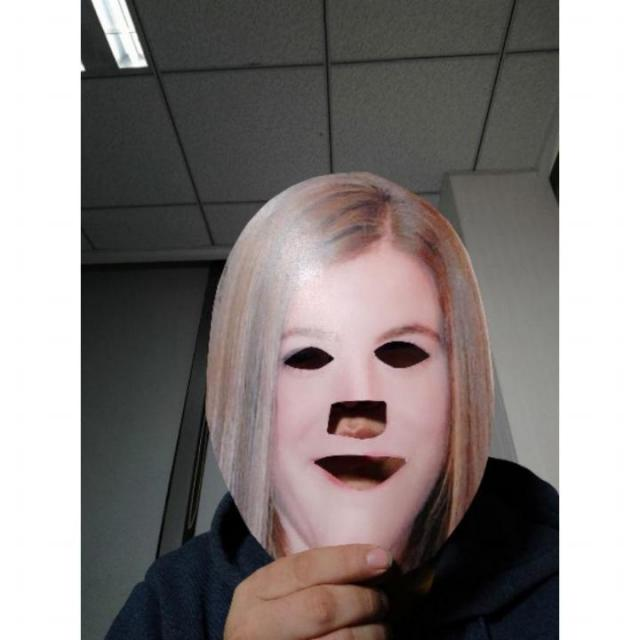mask: (199, 170, 496, 580)
